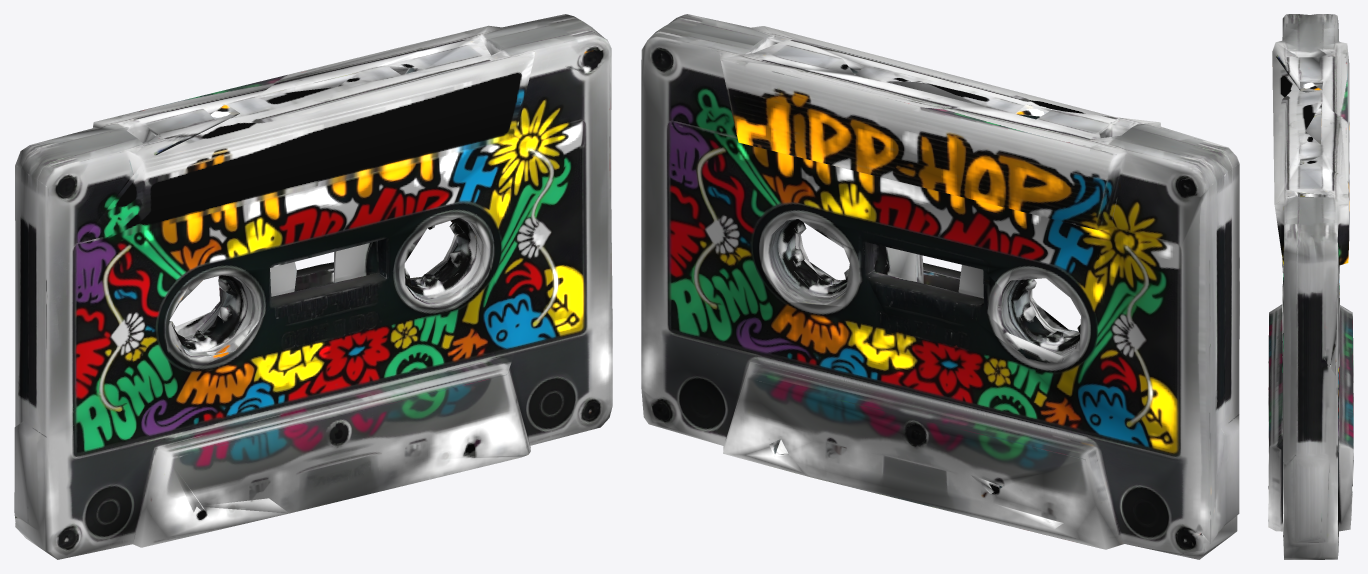
Rendered from tape.glb.
3 views of the same model, side by side, from view 1: azimuth 30°, elevation 25°; view 2: azimuth 150°, elevation 25°; view 3: azimuth 270°, elevation 25° (orthographic). The views are drawn at different scales.
Visible parts, largest first — view 1: Mesh1.0; view 2: Mesh1.0; view 3: Mesh1.0.
Boxes of the visible parts, bbox=[...] form: Mesh1.0: bbox=[14, 14, 612, 559]; Mesh1.0: bbox=[641, 14, 1239, 559]; Mesh1.0: bbox=[1268, 14, 1353, 559].
Size of the model in its own units: 1.92 by 1.25 by 0.2927.
Materials: 1 (1 with a texture image).
